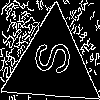S: (27, 39, 71, 76)
